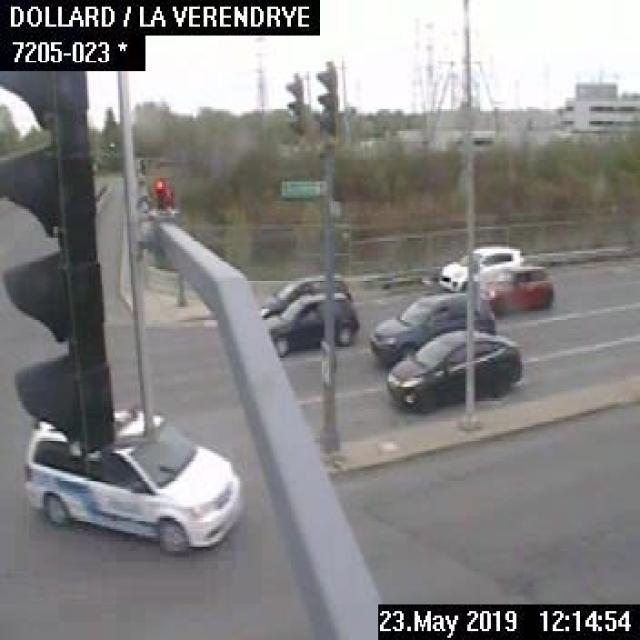vehicle: (18, 409, 240, 551), (383, 329, 520, 414), (367, 288, 492, 355), (260, 292, 360, 356), (438, 240, 526, 293), (258, 273, 358, 317), (478, 265, 553, 313)
